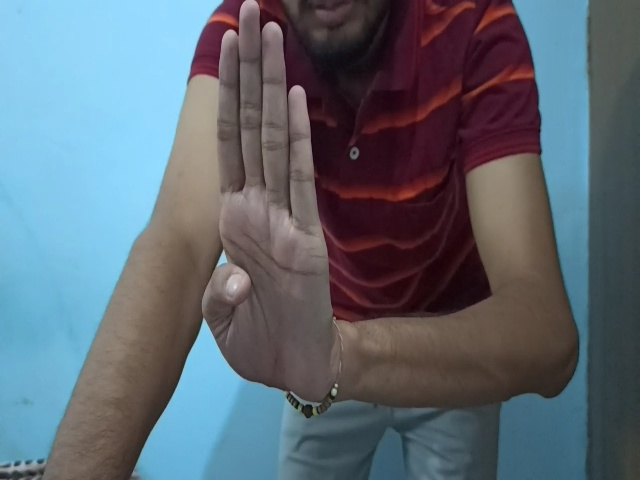B: (201, 1, 335, 398)
